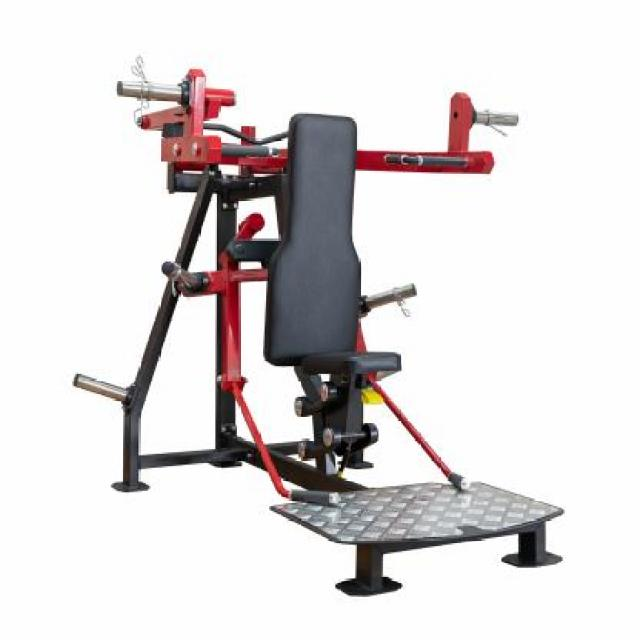shoulder press machine: (74, 72, 568, 596)
